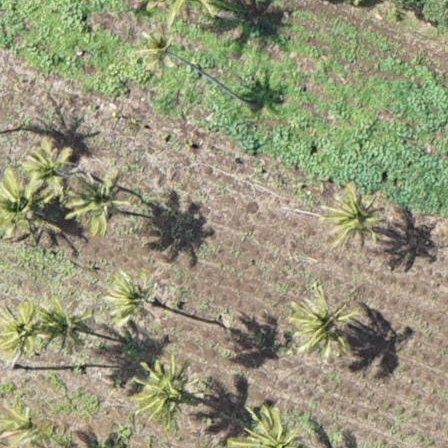palm_tree: (129, 357, 198, 431), (67, 168, 128, 231), (291, 295, 350, 354), (1, 295, 52, 361), (1, 173, 53, 237), (324, 187, 381, 245), (108, 274, 161, 327), (23, 139, 73, 194), (136, 29, 179, 68)
